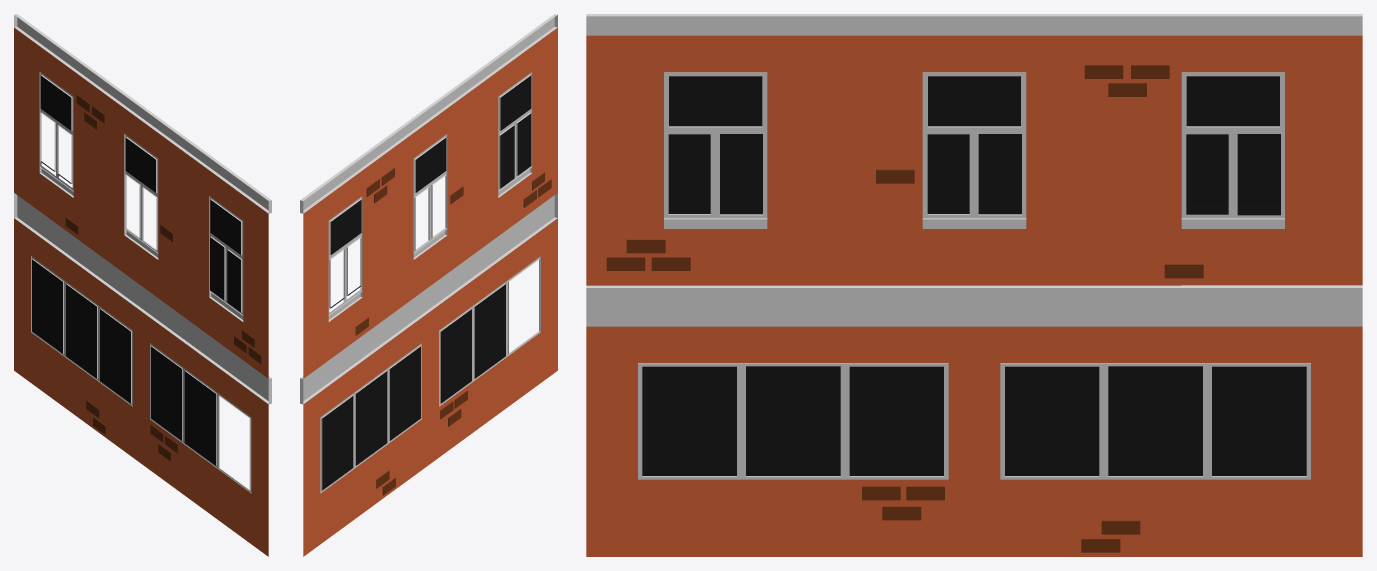
File: House1.fbx
3 views of the same model, side by side, from view 1: azimuth 30°, elevation 25°; view 2: azimuth 150°, elevation 25°; view 3: azimuth 270°, elevation 25° (orthographic). The views are drawn at different scales.
Visible parts, largest first — view 1: Plane; view 2: Plane; view 3: Plane.
Part boxes in pixels (x1=…): Plane: x1=14, y1=14, x2=271, y2=556; Plane: x1=300, y1=14, x2=557, y2=556; Plane: x1=586, y1=14, x2=1362, y2=556.
Bounding box in the file's own units: 12.05 × 1080 × 1400.
